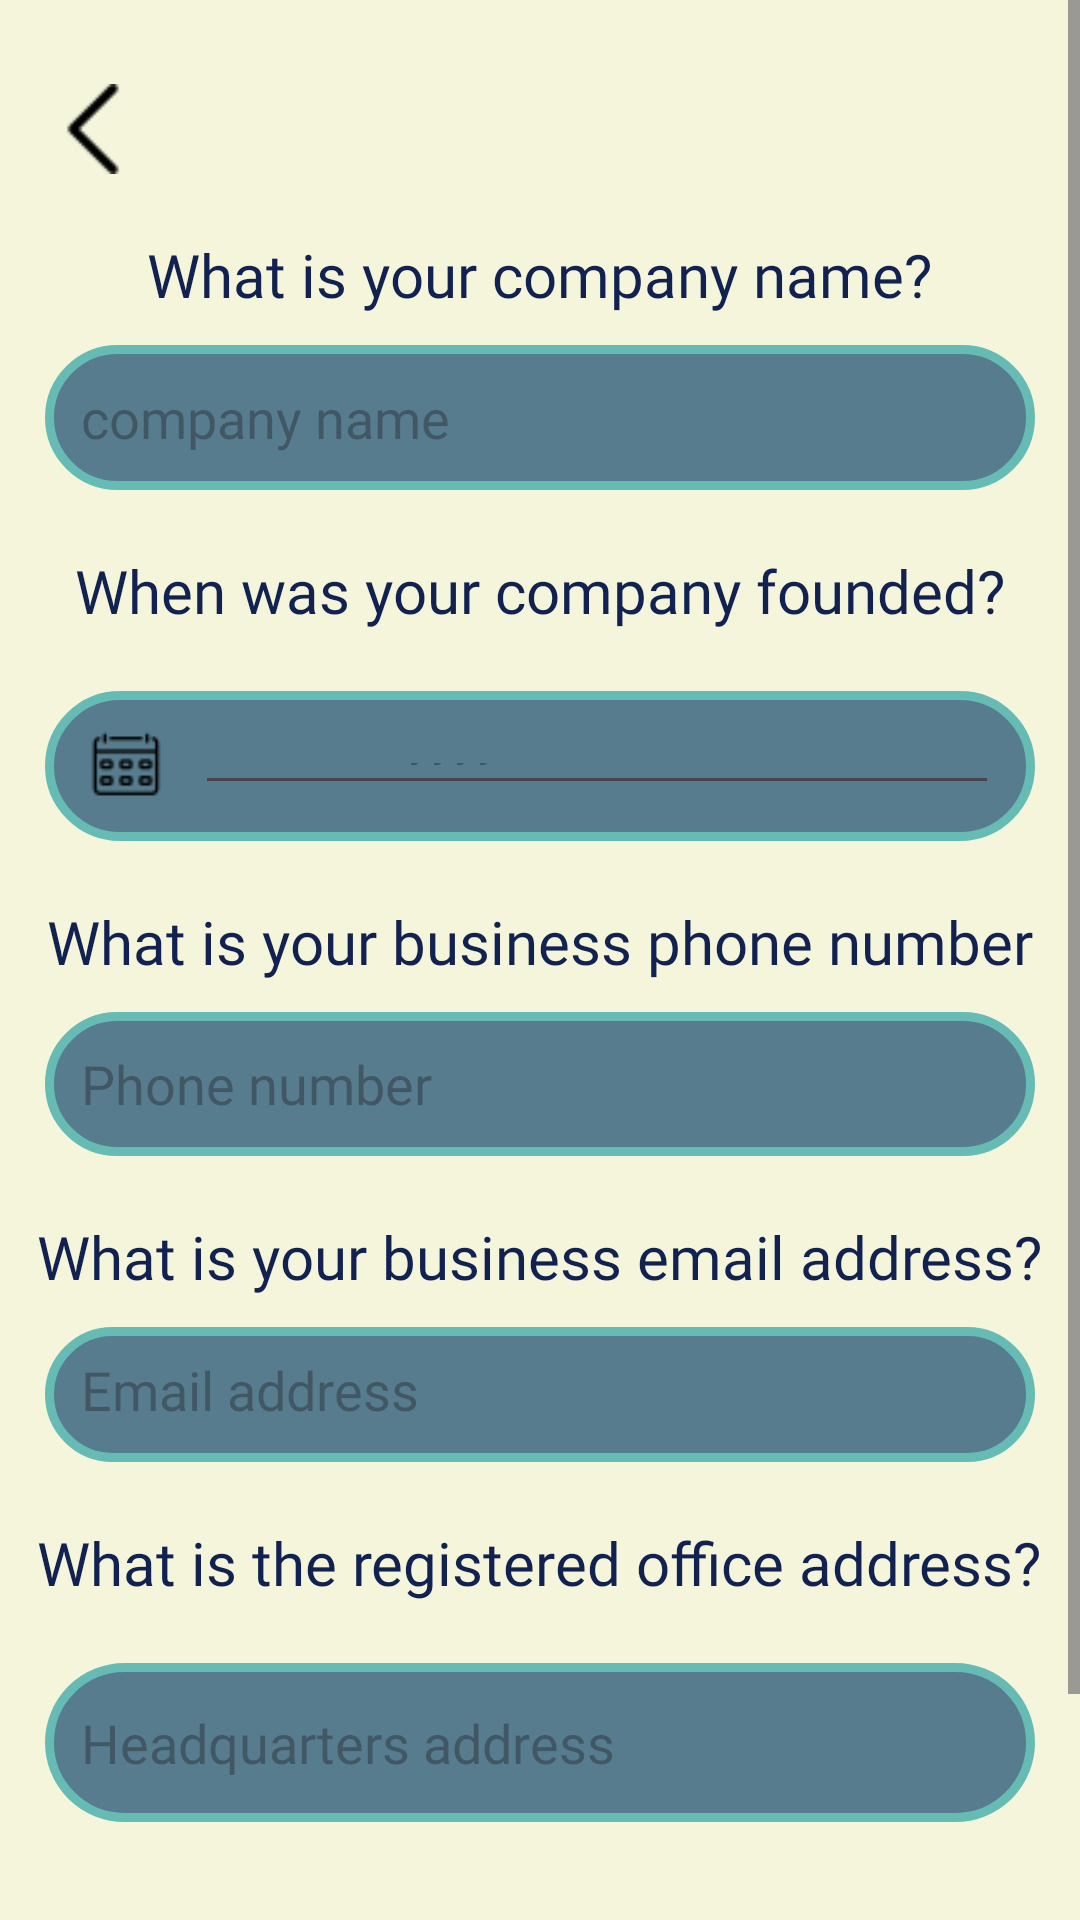

Named icons in this screenshot (1080px×1920px) and their centers, [x,y]:
calendar: [126,764]
retour: [93,129]
